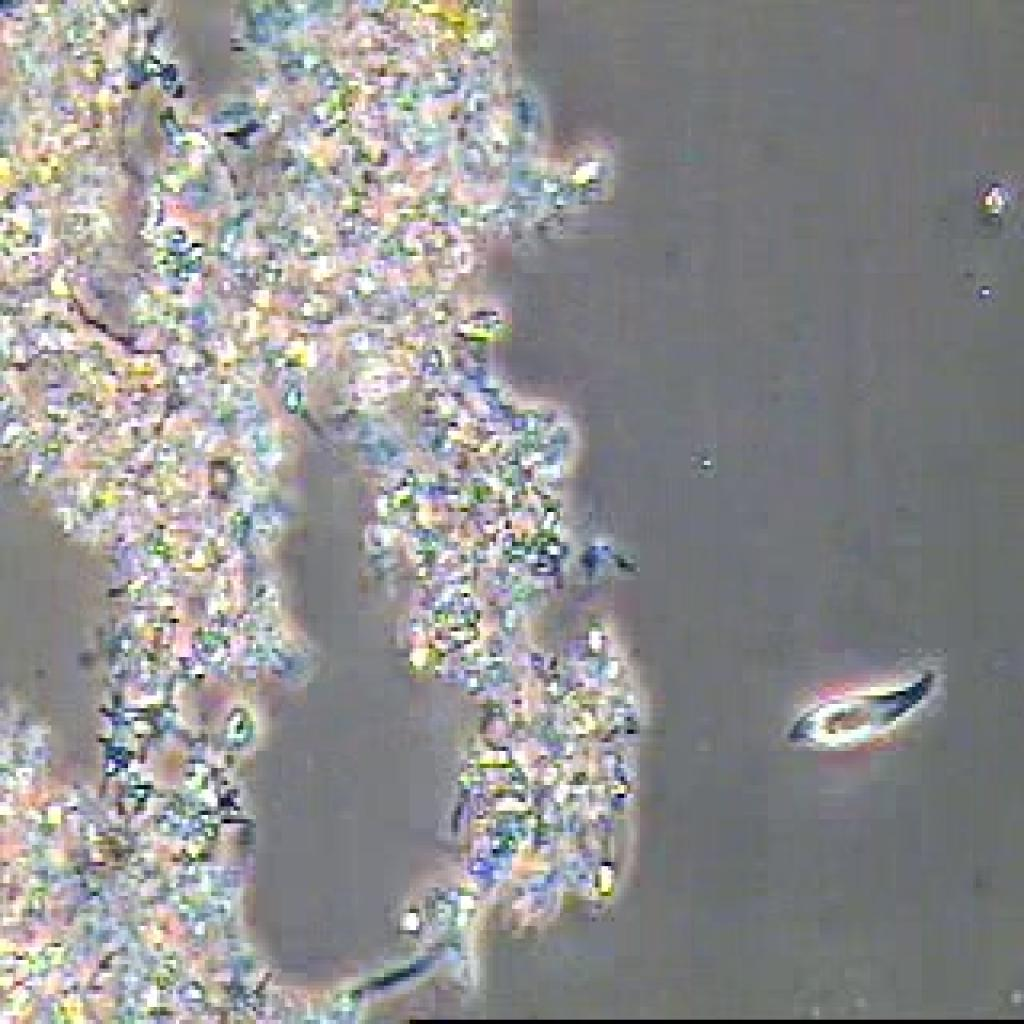Pristina: (754, 636, 948, 772)
